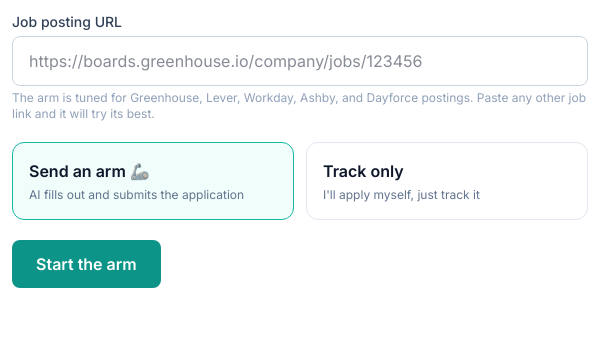
Test: NewApplicationForm › shows a generic error when the failure has no hint or error
The width and height of the screenshot is (605, 343).
In the field with placeholder "https://boards.greenhouse.io/company/jobs/123456": (300, 61) left=12, top=36, right=588, bottom=86, type "https://boards.greenhouse.io/x/jobs/1"
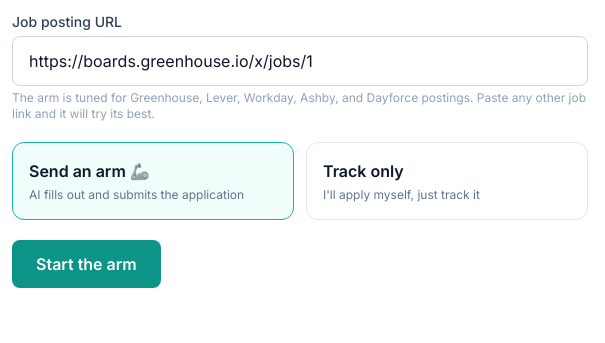
Click the button "Start the arm": (86, 264) left=12, top=240, right=161, bottom=288
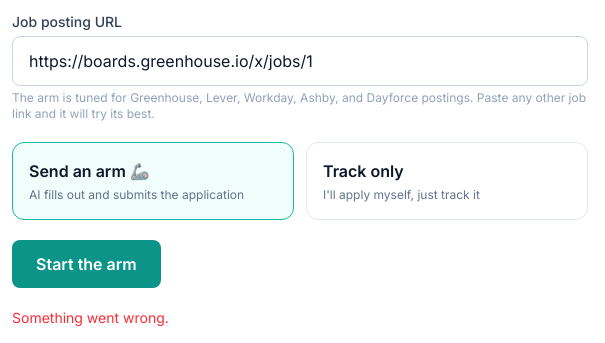
Now the text "Something went wrong." is shown, box left=12, top=309, right=169, bottom=326
